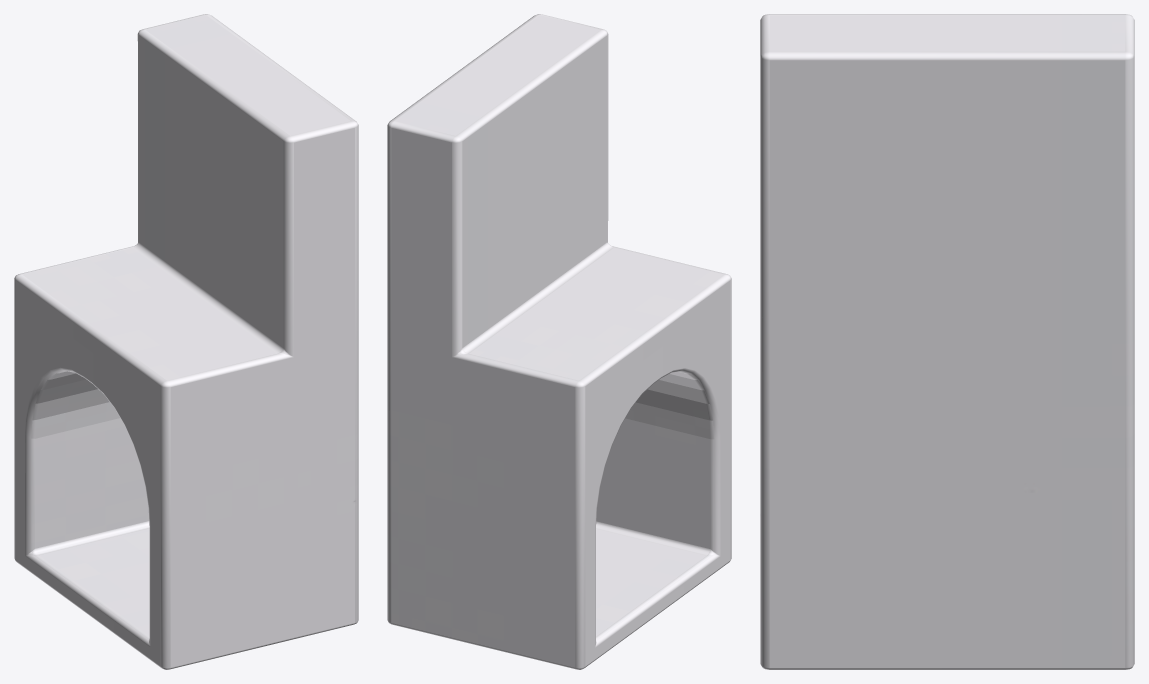
Rendered from stove.obj.
3 views of the same model, side by side, from view 1: azimuth 30°, elevation 25°; view 2: azimuth 150°, elevation 25°; view 3: azimuth 270°, elevation 25° (orthographic). The views are drawn at different scales.
Parts seen in each view (by area): view 1: witch's_house.003; view 2: witch's_house.003; view 3: witch's_house.003.
Part boxes in pixels (bbox=[...]): witch's_house.003: bbox=[14, 14, 358, 669]; witch's_house.003: bbox=[387, 14, 731, 669]; witch's_house.003: bbox=[760, 14, 1134, 669].
Size of the model in its own units: 1.05 by 2.55 by 1.4.
Materials: 1 (1 with a texture image).
